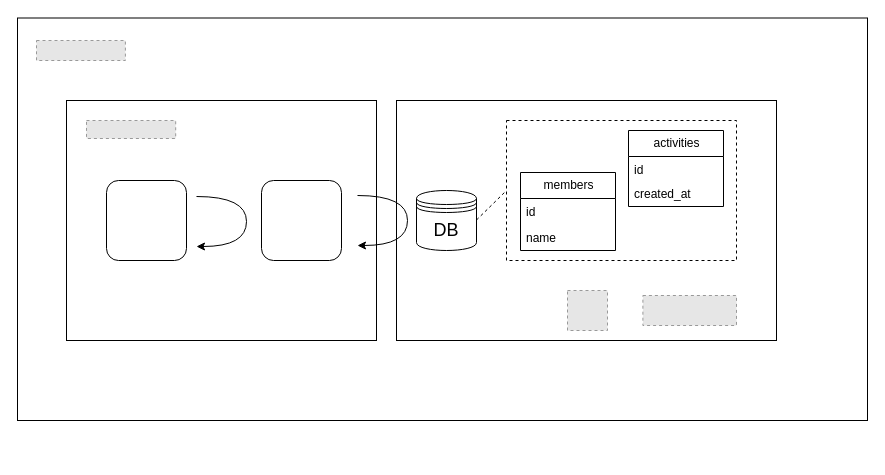
Image size: 885x475. Some labels were removed from this diagram. Grey dashed boxes stand in for pictures. Each missing label, with the centre of its shape:
"API" belongs at (301,220).
"UI" belongs at (146,220).
